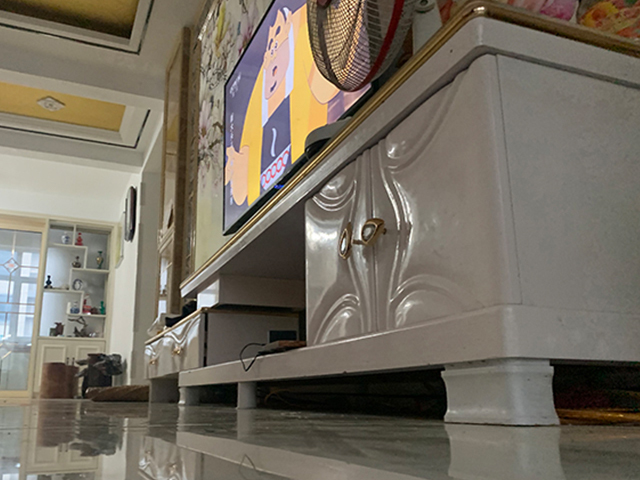cabinet: (142, 1, 640, 427)
